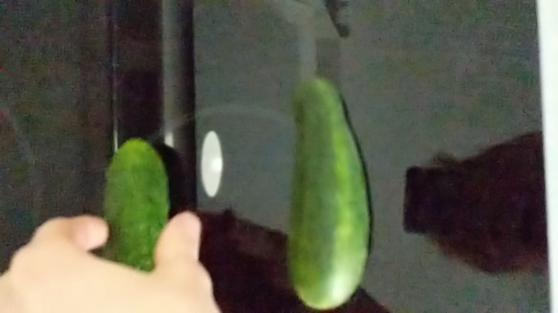cucumber: (286, 73, 377, 310), (100, 133, 177, 277)
